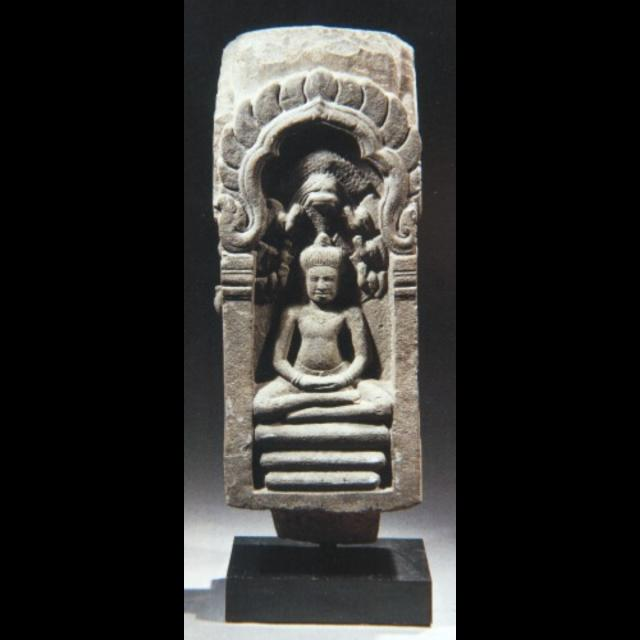buddha-sitting: (262, 231, 394, 488)
